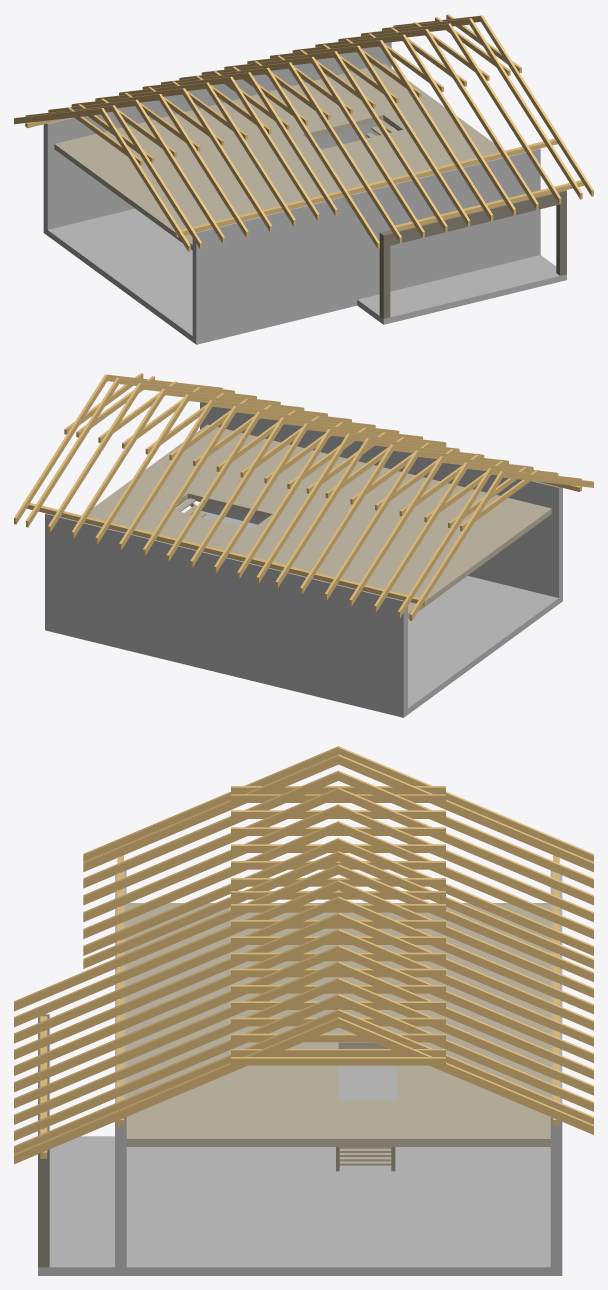
3 views of the same model, one above another, from view 1: azimuth 30°, elevation 25°; view 2: azimuth 150°, elevation 25°; view 3: azimuth 270°, elevation 25° (orthographic). The views are drawn at different scales.
Visible parts, largest first — view 1: roof_frame_building; view 2: roof_frame_building; view 3: roof_frame_building.
Part boxes in pixels (box(x1,y1,x2,y2)): roof_frame_building: box(14, 14, 593, 344); roof_frame_building: box(14, 373, 593, 717); roof_frame_building: box(14, 746, 593, 1275).
Bounding box in the file's own units: 5.03 × 2.31 × 4.49.
